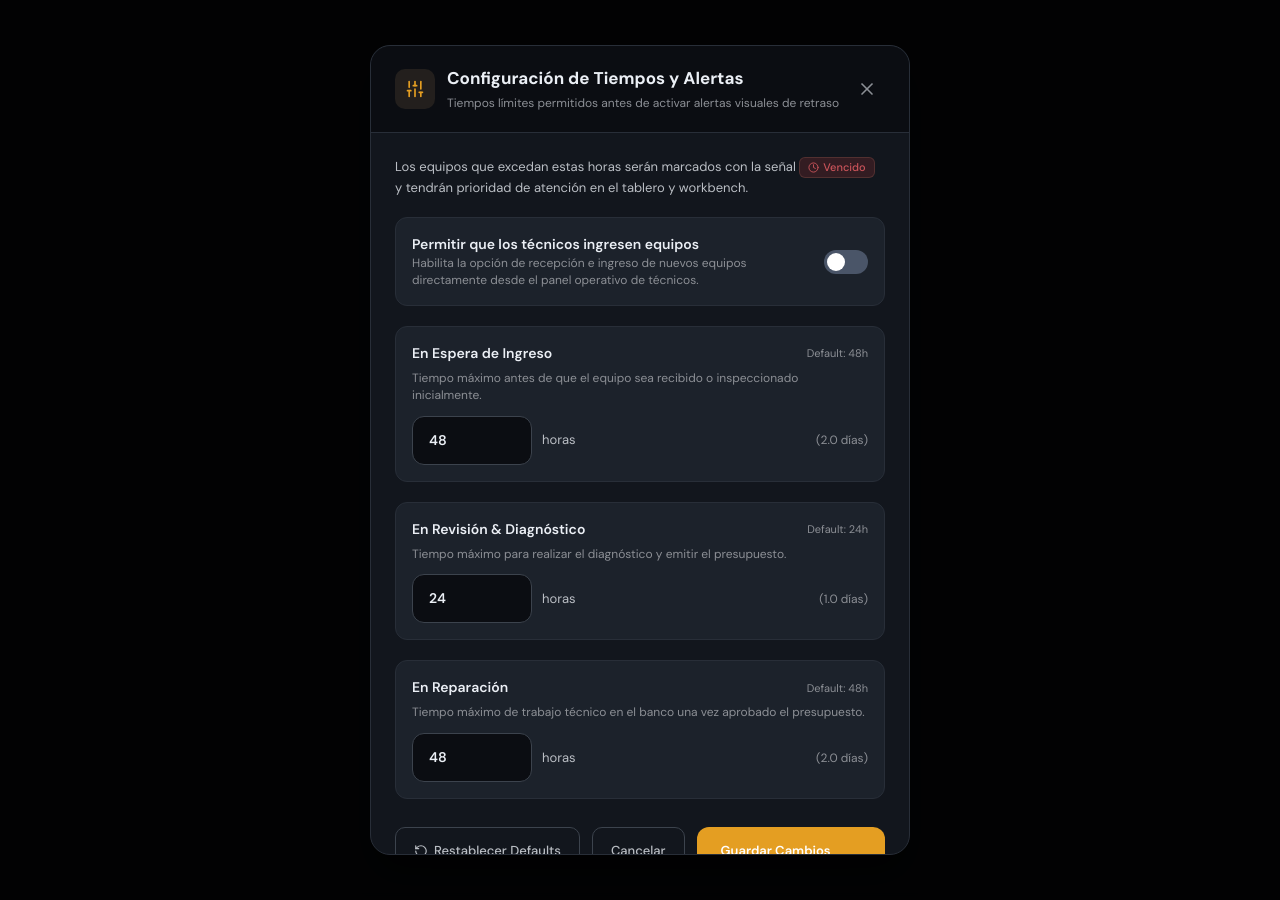
Test: SlaSettingsModal Component › submits updated SLA thresholds and displays success confirmation
Replace the text in the number field named "Horas SLA para En Revisión & Diagnóstico" with "12" at (472, 599), box [412,574,532,623]
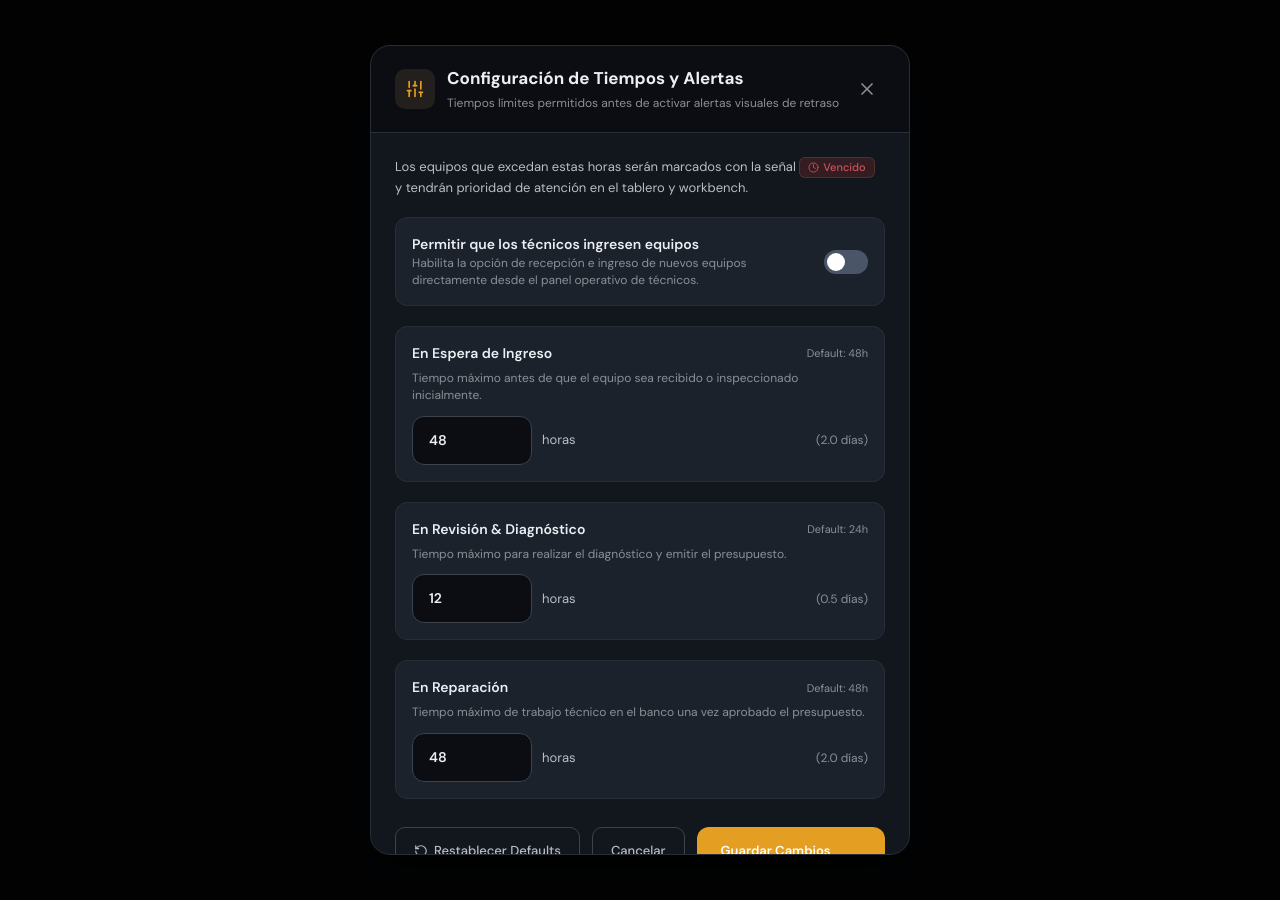
Replace the text in the number field named "Horas SLA para En Reparación" with "36" at (472, 758), box [412,733,532,782]
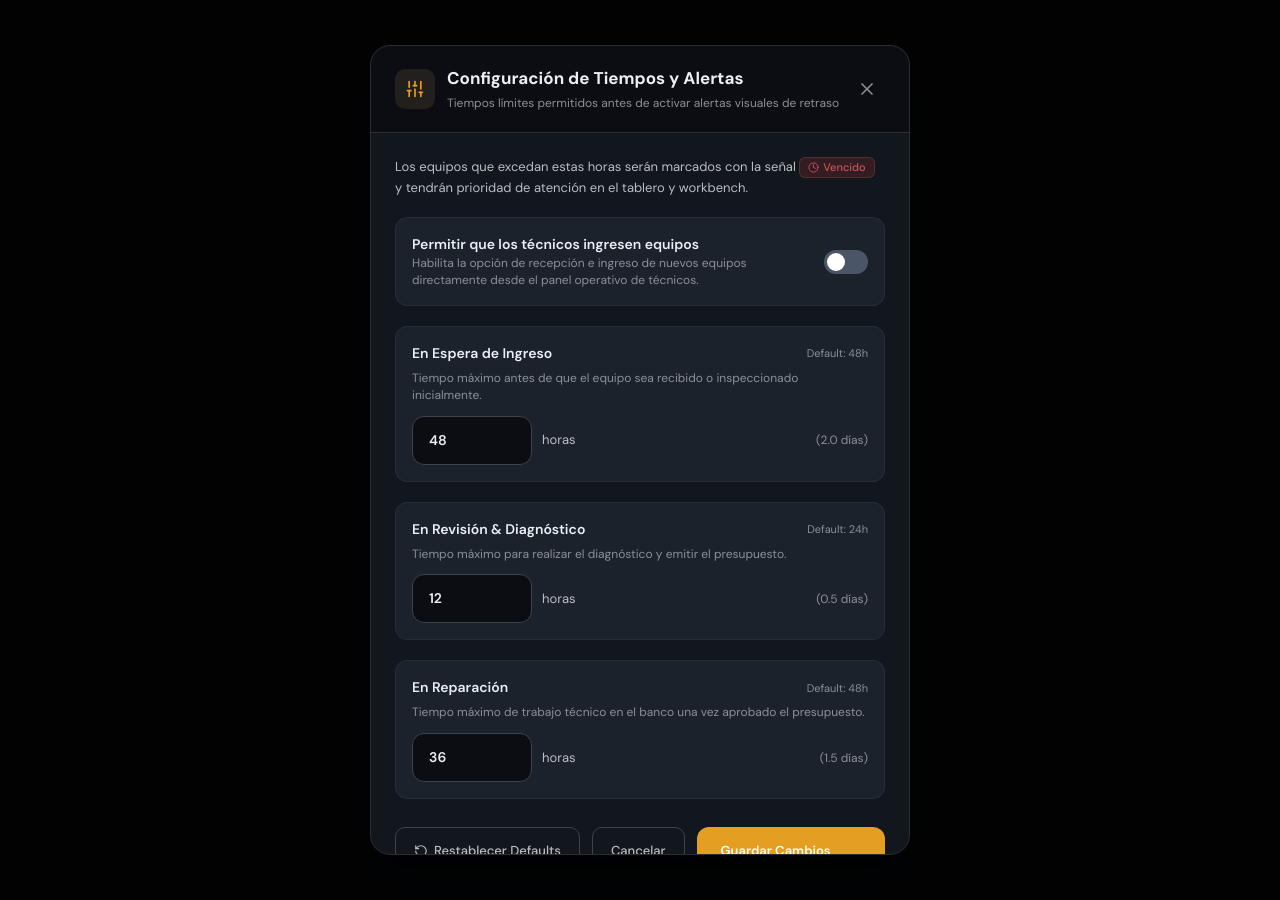
Click the button "Guardar Cambios" at (791, 851), box [697,827,885,875]
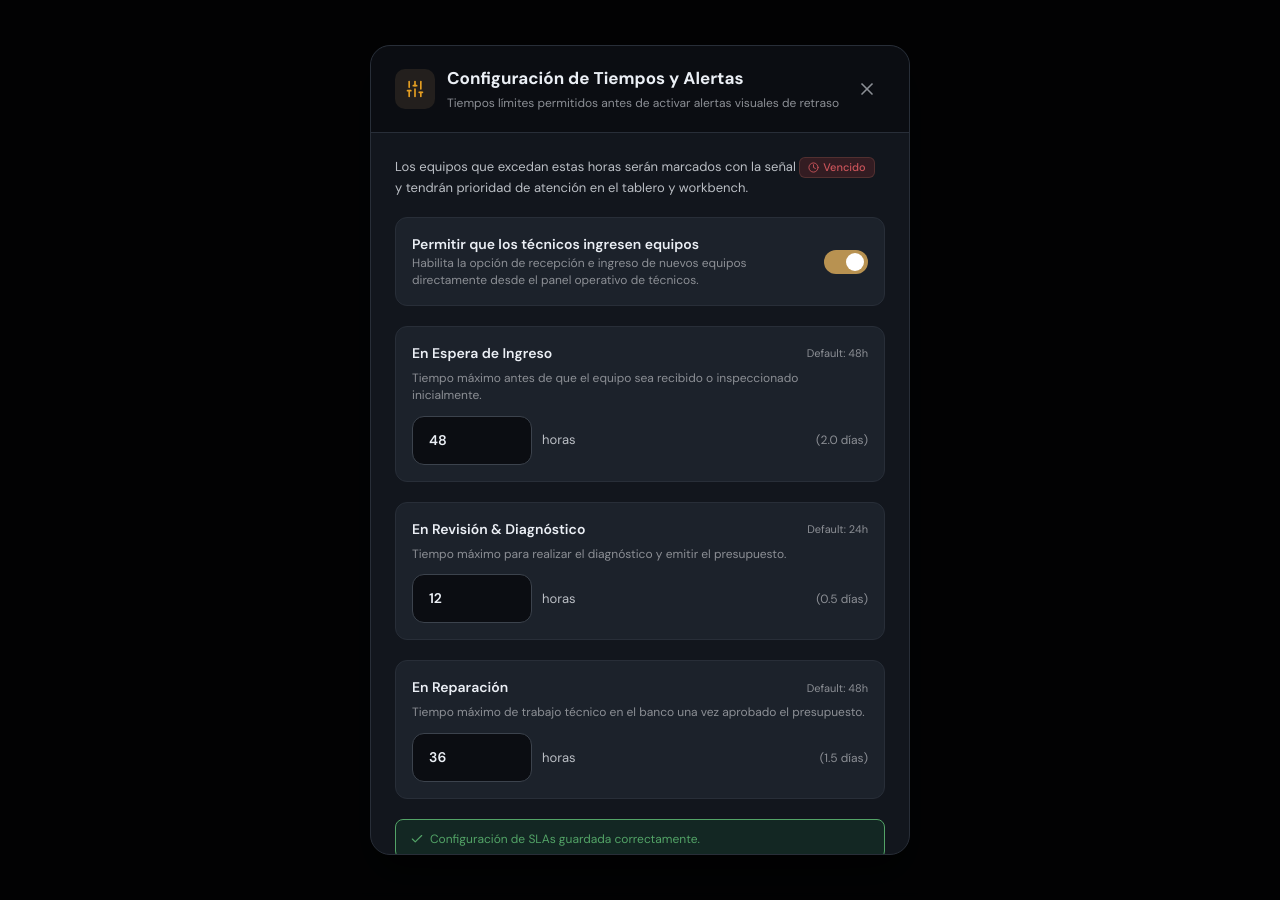
Check: the text "Configuración de SLAs guardada correctamente." is shown, box [395,819,885,854]
